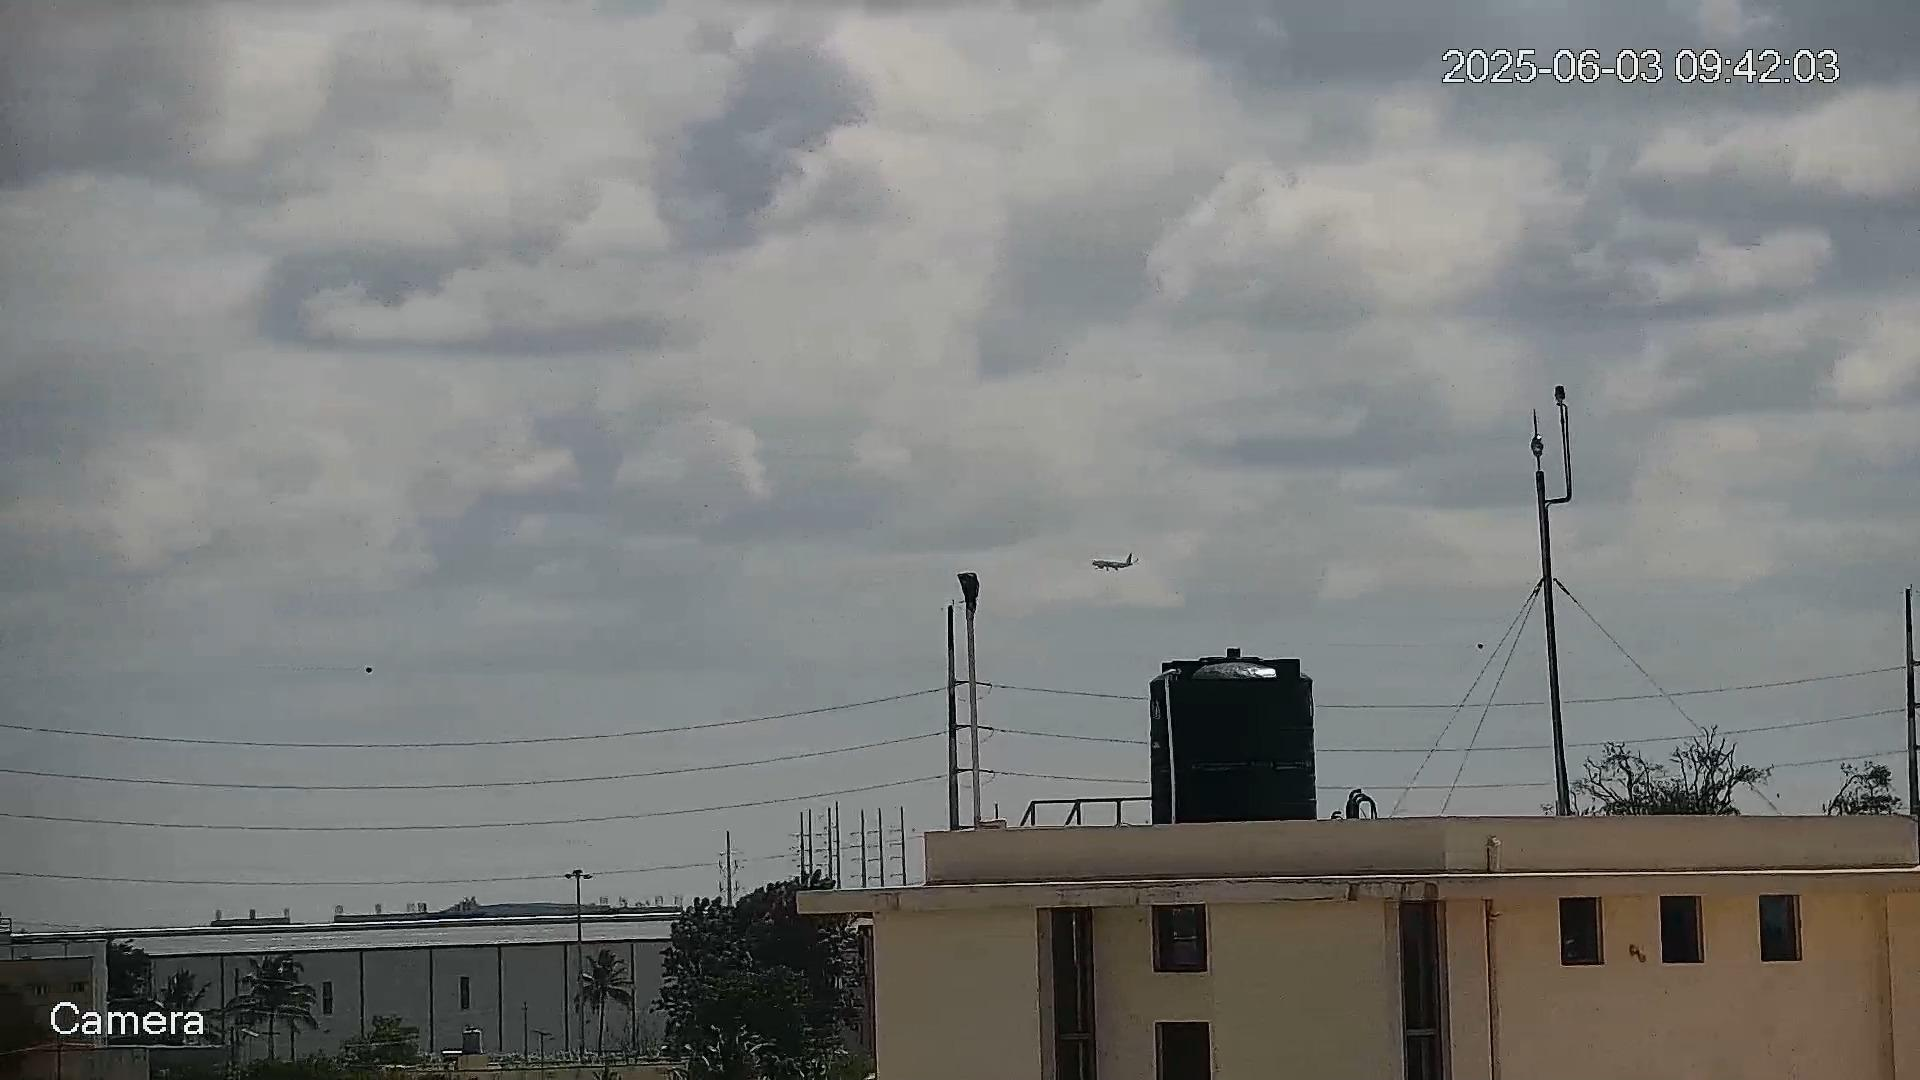Aircraft: (1091, 554, 1139, 572)
